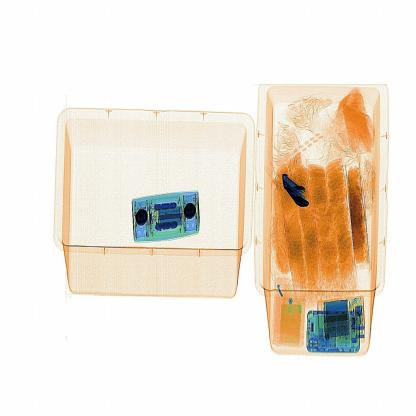pliers: (280, 160, 317, 226)
